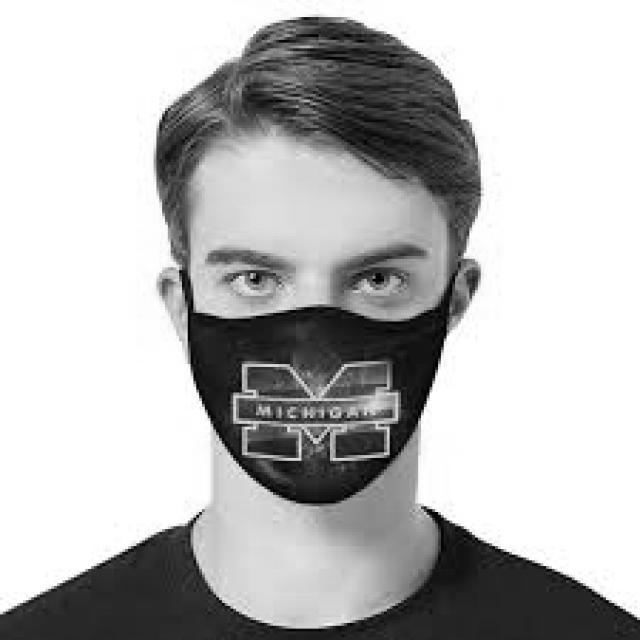fake: (170, 283, 459, 518)
real: (186, 135, 449, 519)
